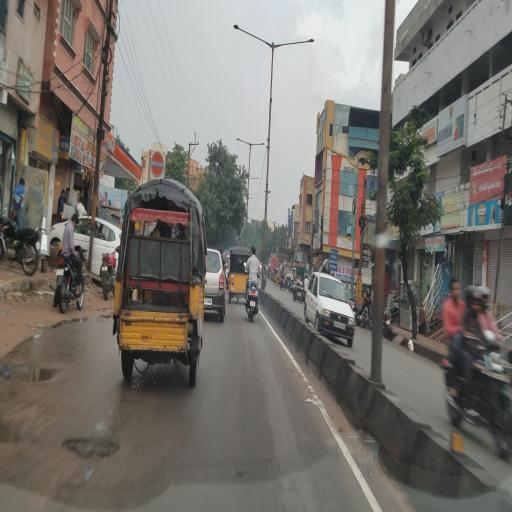street_light_0: (226, 16, 276, 46), (271, 26, 319, 57)
